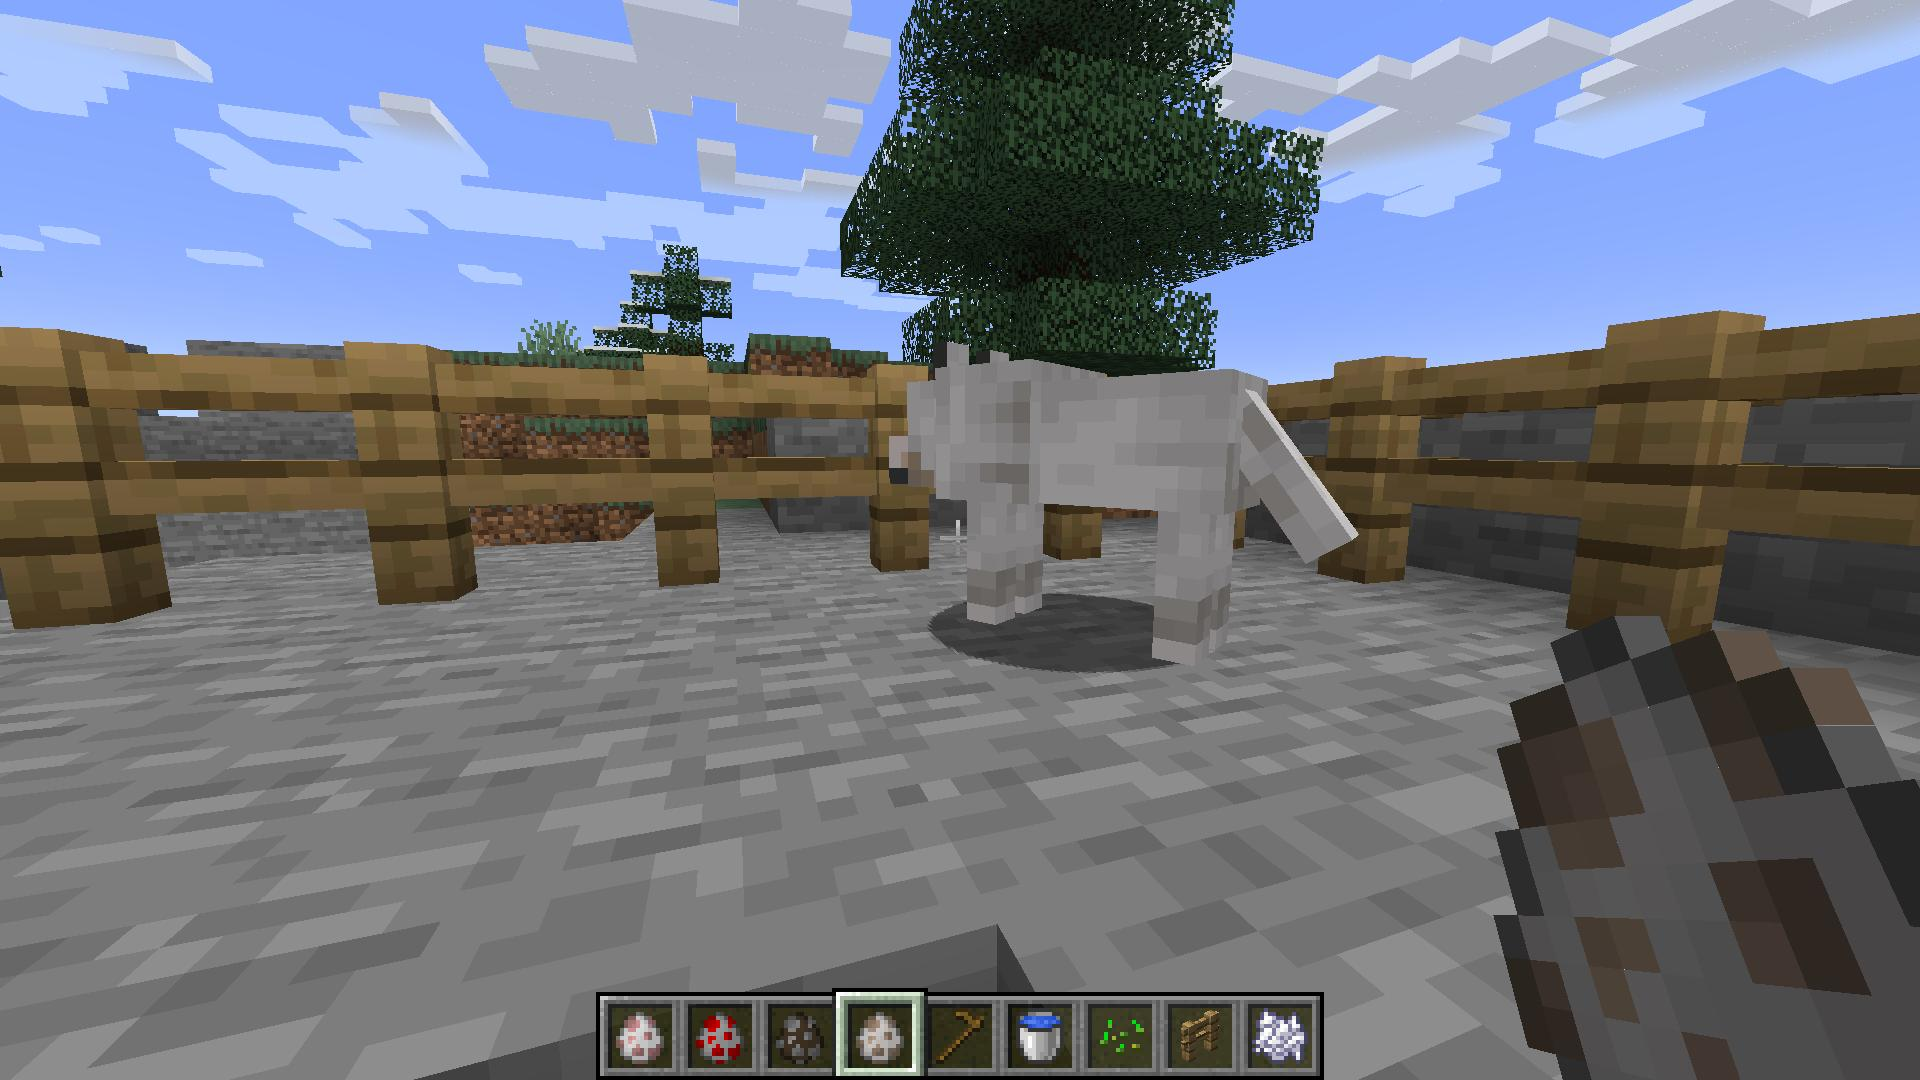wolf: (886, 338, 1366, 688)
